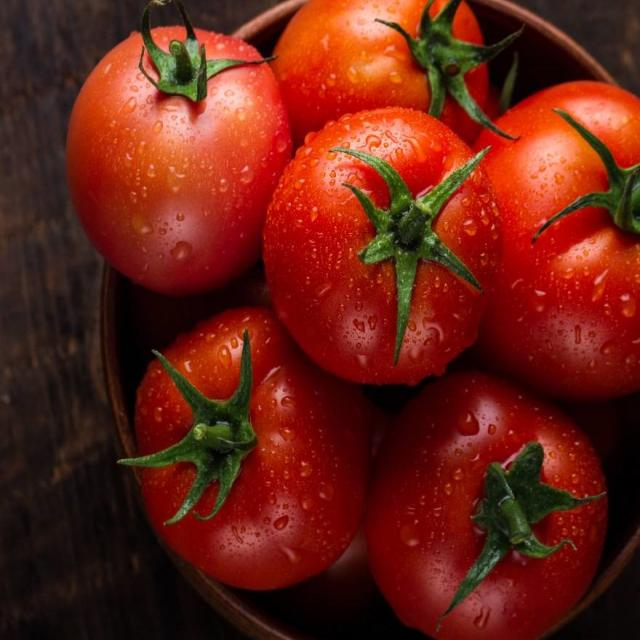tomato: (134, 307, 393, 596), (365, 370, 609, 640), (264, 109, 500, 388), (66, 18, 297, 299), (457, 81, 640, 407), (266, 0, 499, 144)
